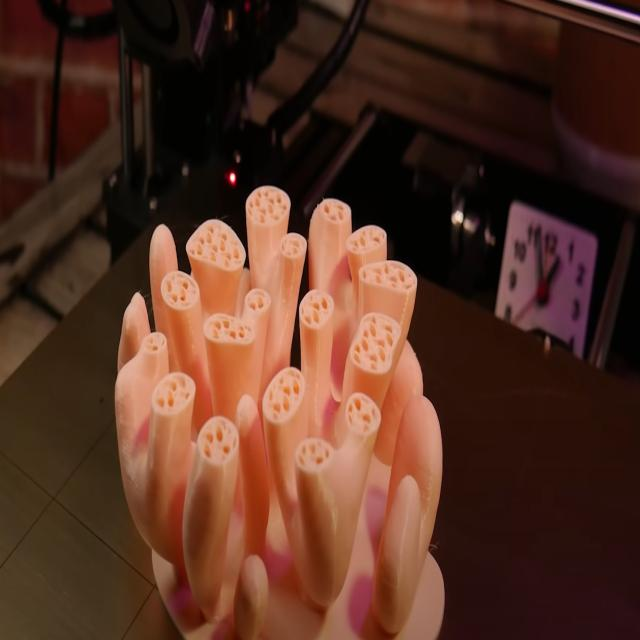Without deffect: (115, 170, 478, 640)
